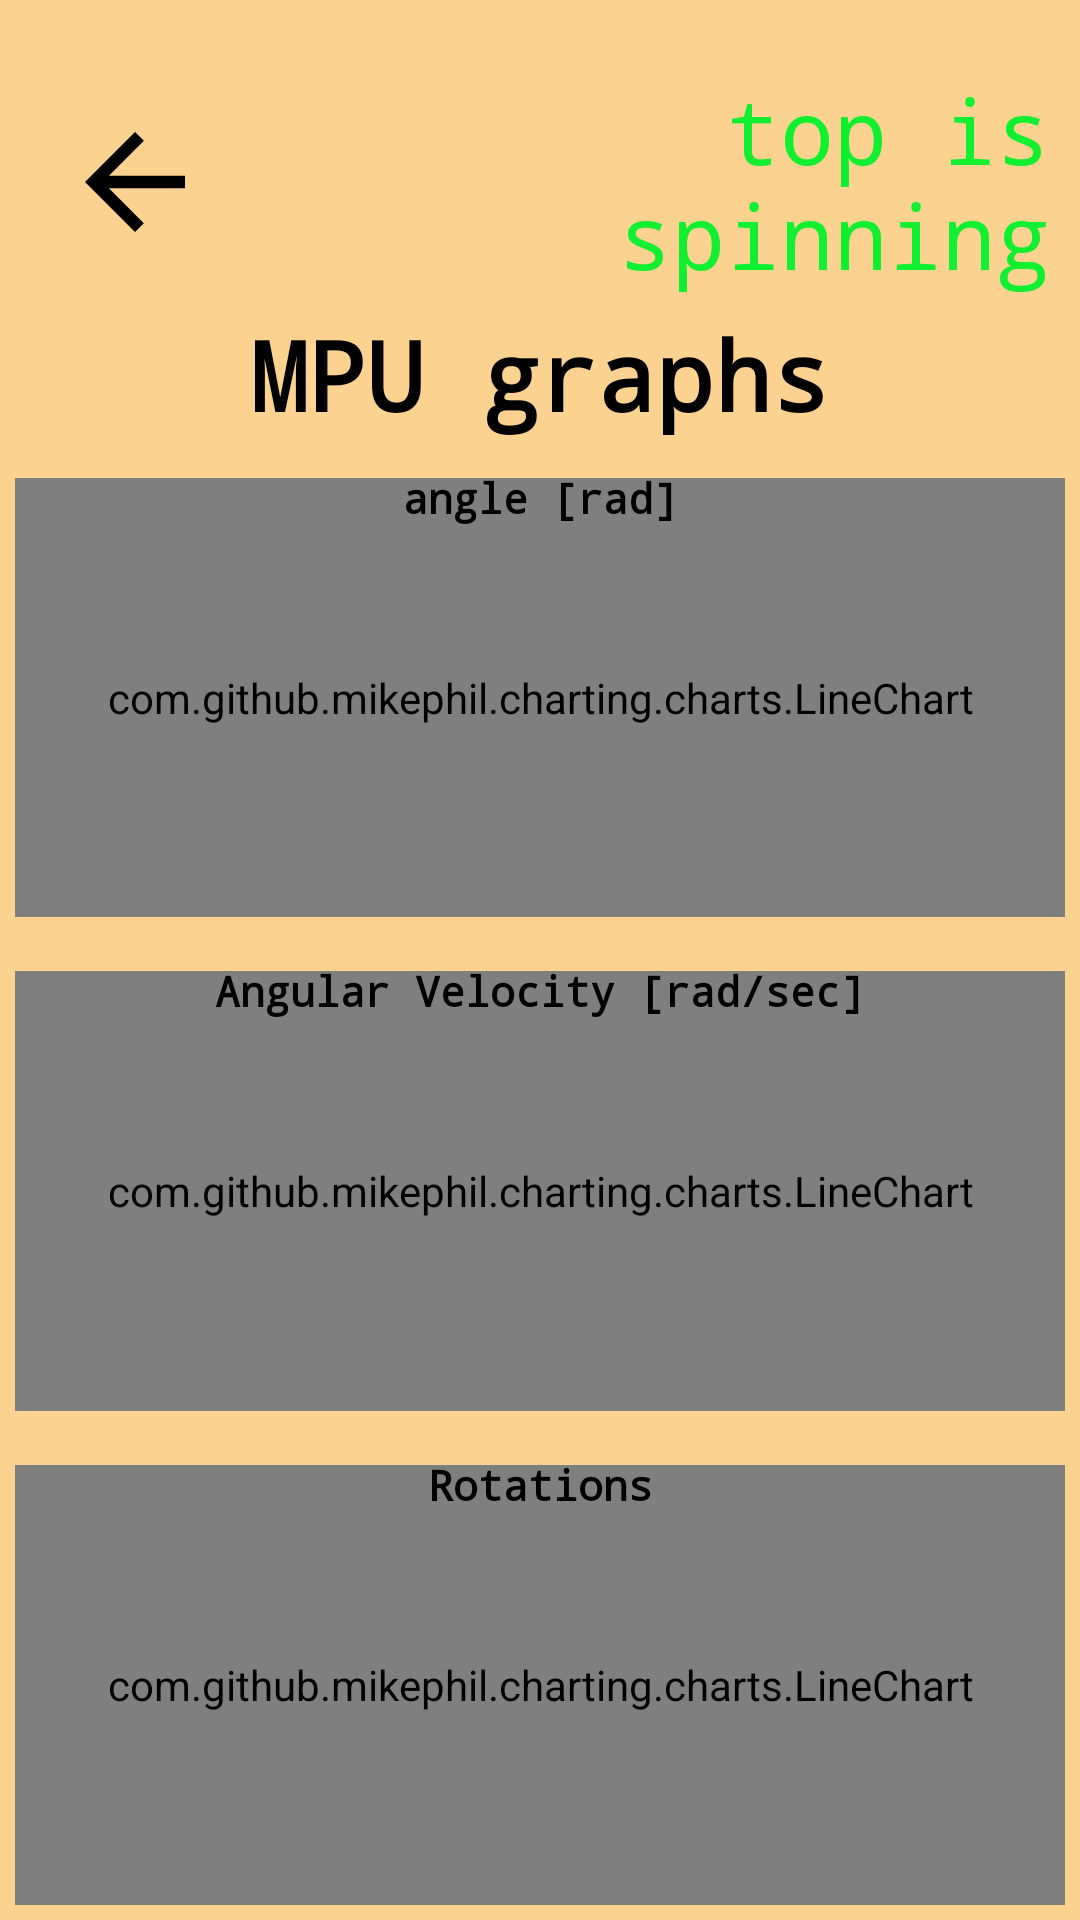

Named icons in this screenshot (1080*1920) and their bounding boxes, (x1, y1, x2, y2):
back: (85, 132, 185, 232)
